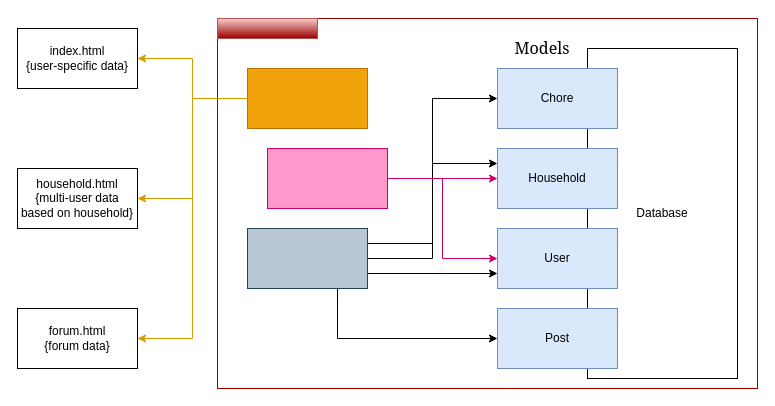
This 775x406 diagram has some shape labels left out. The shapes that lost their labels are listed below. From the top down, each one's centre as x and y in pixels, then its label:
At (267,28): "SERVER".
At (307,98): "htmlRoutes".
At (327,178): "authRoutes".
At (307,258): "apiRoutes".
